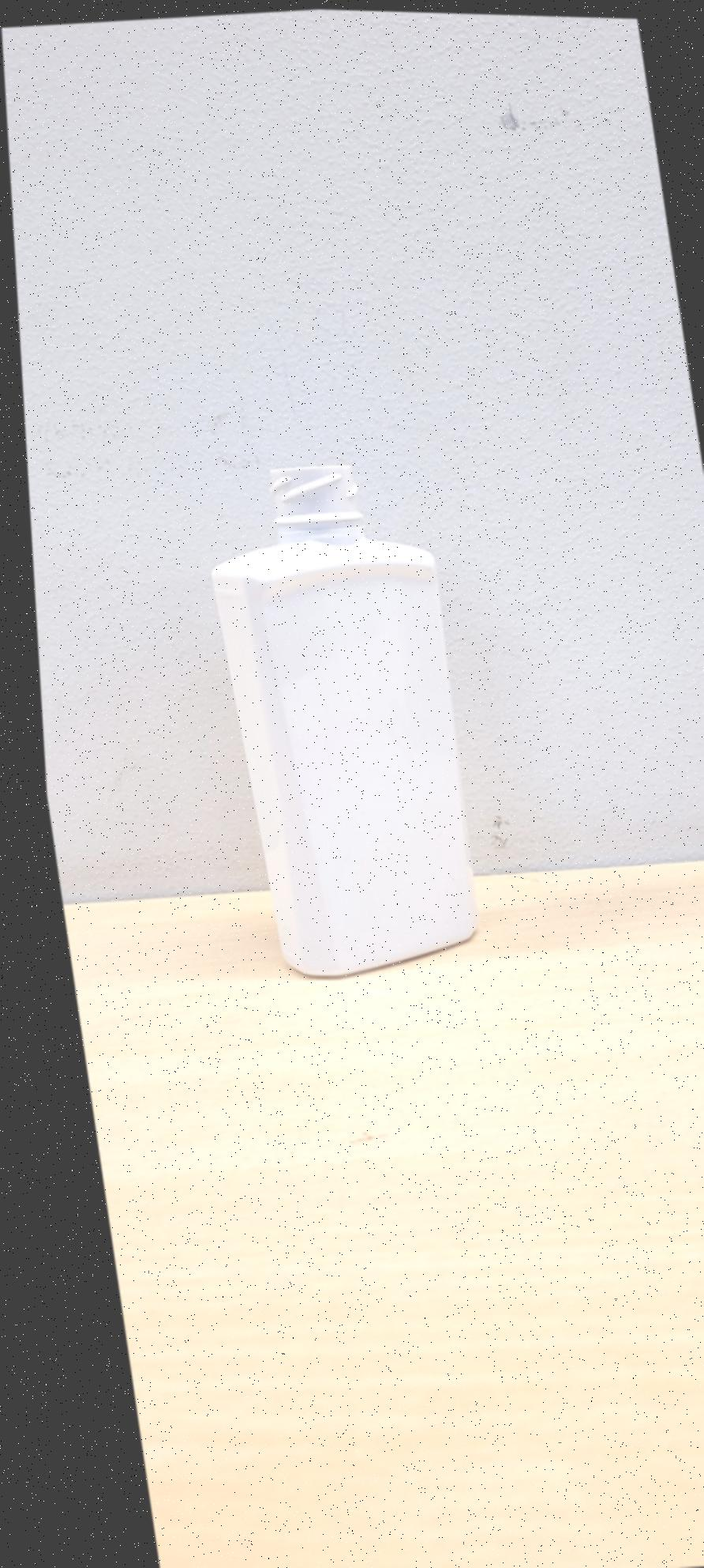bottle: (212, 463, 476, 975)
